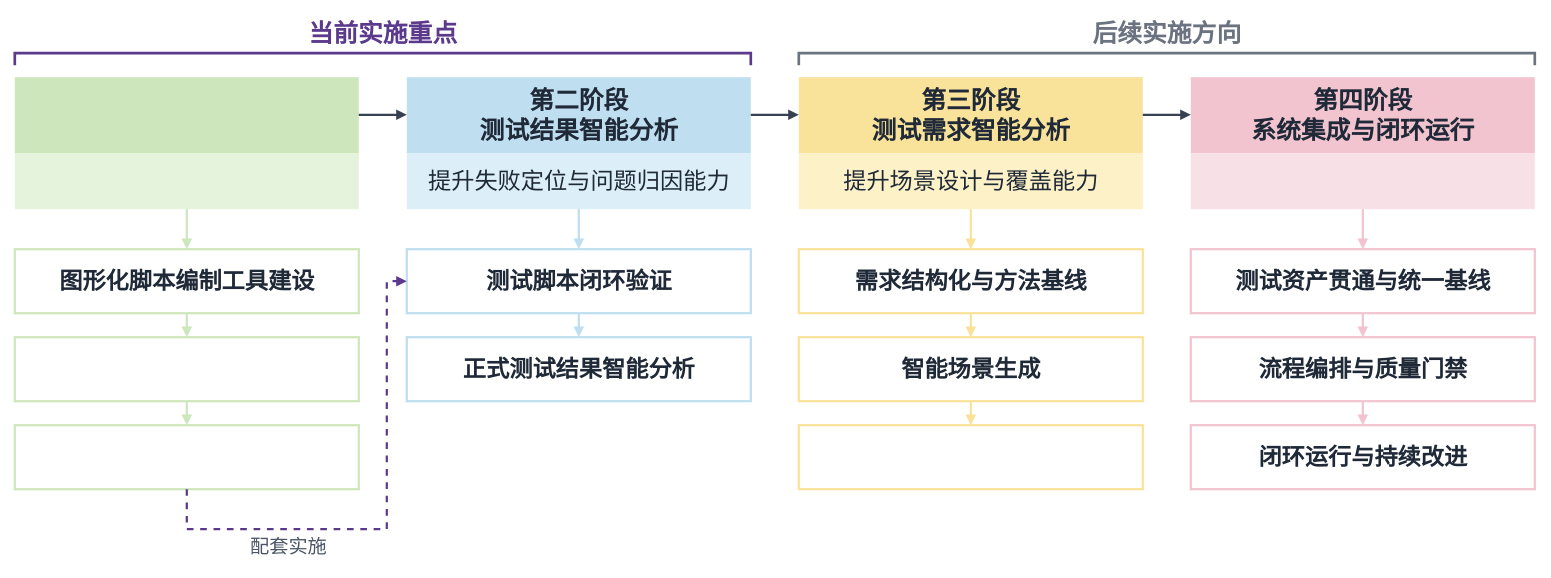
Image size: 1551x578. Some labels were removed from this diagram. The shapes that lost their labels are listed below. From the top down, each one's box as (x1, y1, x2, y2) in pixels, then its label:
(14, 77, 358, 153): 第一阶段 测试脚本自动生成
(14, 153, 358, 209): 提升脚本编制效率与规范性
(1190, 153, 1534, 209): 形成持续改进体系
(13, 336, 360, 402): 智能生成能力接入
(13, 424, 360, 490): 执行验证与闭环完善
(797, 424, 1144, 490): 覆盖追溯与反馈改进
